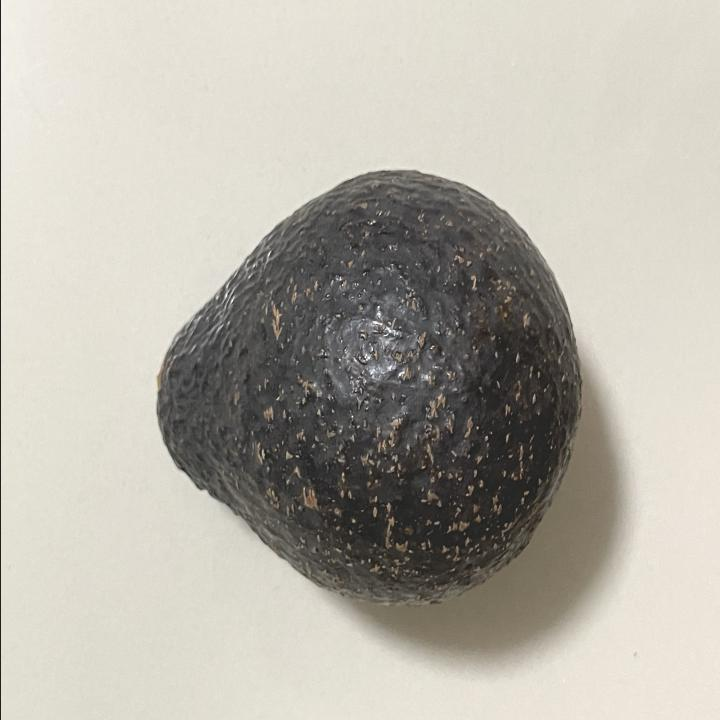Level3: (146, 157, 588, 620)
